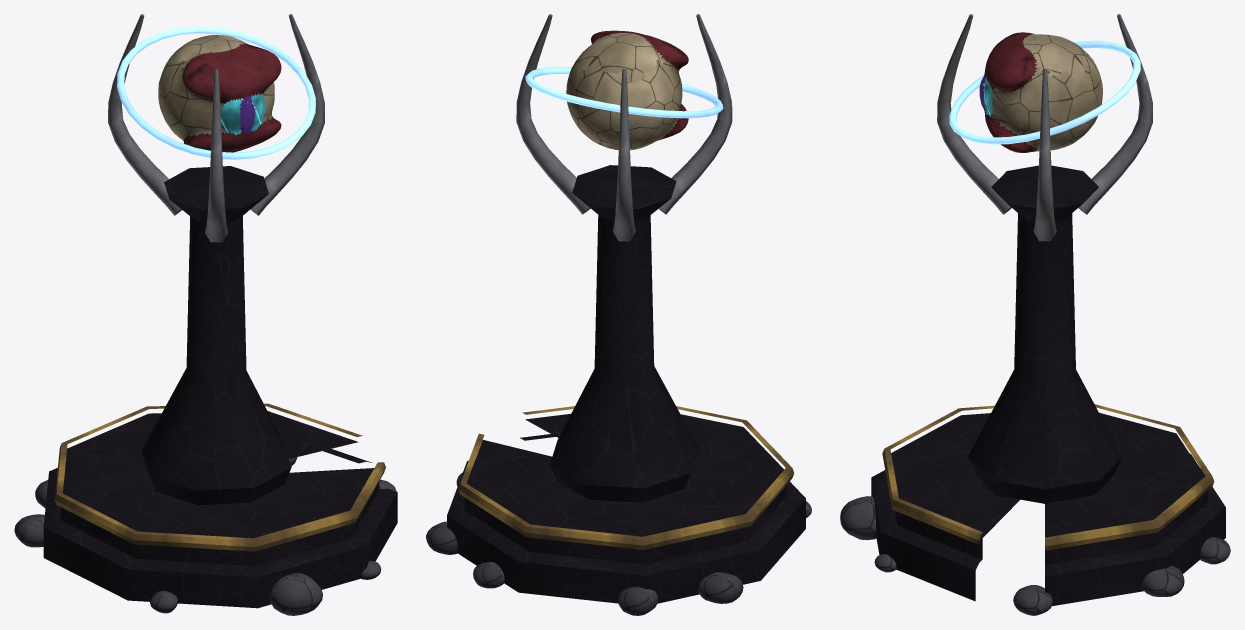
File: stormeye.glb
3 renders of one model, left to right at view 1: azimuth 30°, elevation 25°; view 2: azimuth 150°, elevation 25°; view 3: azimuth 270°, elevation 25°, orthographic.
Visible parts, largest first — view 1: Base, Turret; view 2: Base, Turret; view 3: Base, Turret.
Boxes of the visible parts, x1,y1,x2,y2 form: Base: [14, 14, 397, 615]; Turret: [117, 26, 315, 159]; Base: [426, 14, 811, 615]; Turret: [525, 30, 723, 150]; Base: [840, 14, 1230, 615]; Turret: [949, 32, 1140, 152].
Size of the model in its own units: 0.9768 by 1.45 by 1.01.
Materials: 9 (9 with a texture image).
